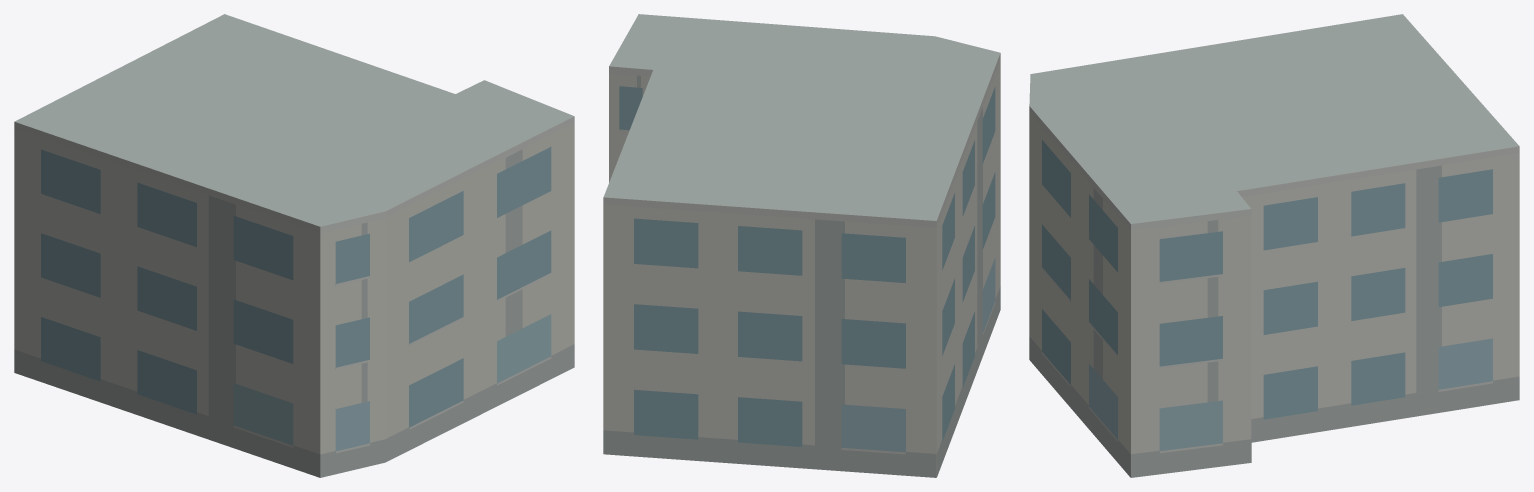
The model's file is residential-019ce2d3-e990-4910-b346-6343006e9f60.glb.
3 renders of one model, left to right at view 1: azimuth 30°, elevation 25°; view 2: azimuth 150°, elevation 25°; view 3: azimuth 270°, elevation 25°, orthographic. The views are drawn at different scales.
Parts seen in each view (by area): view 1: residential-019ce2d3-e990-4910-b346-6343006e9f60.tmp; view 2: residential-019ce2d3-e990-4910-b346-6343006e9f60.tmp; view 3: residential-019ce2d3-e990-4910-b346-6343006e9f60.tmp.
Part boxes in pixels (bbox=[...]): residential-019ce2d3-e990-4910-b346-6343006e9f60.tmp: bbox=[14, 14, 574, 477]; residential-019ce2d3-e990-4910-b346-6343006e9f60.tmp: bbox=[603, 14, 1000, 477]; residential-019ce2d3-e990-4910-b346-6343006e9f60.tmp: bbox=[1029, 14, 1519, 477].
Size of the model in its own units: 15.98 by 9 by 15.76.
